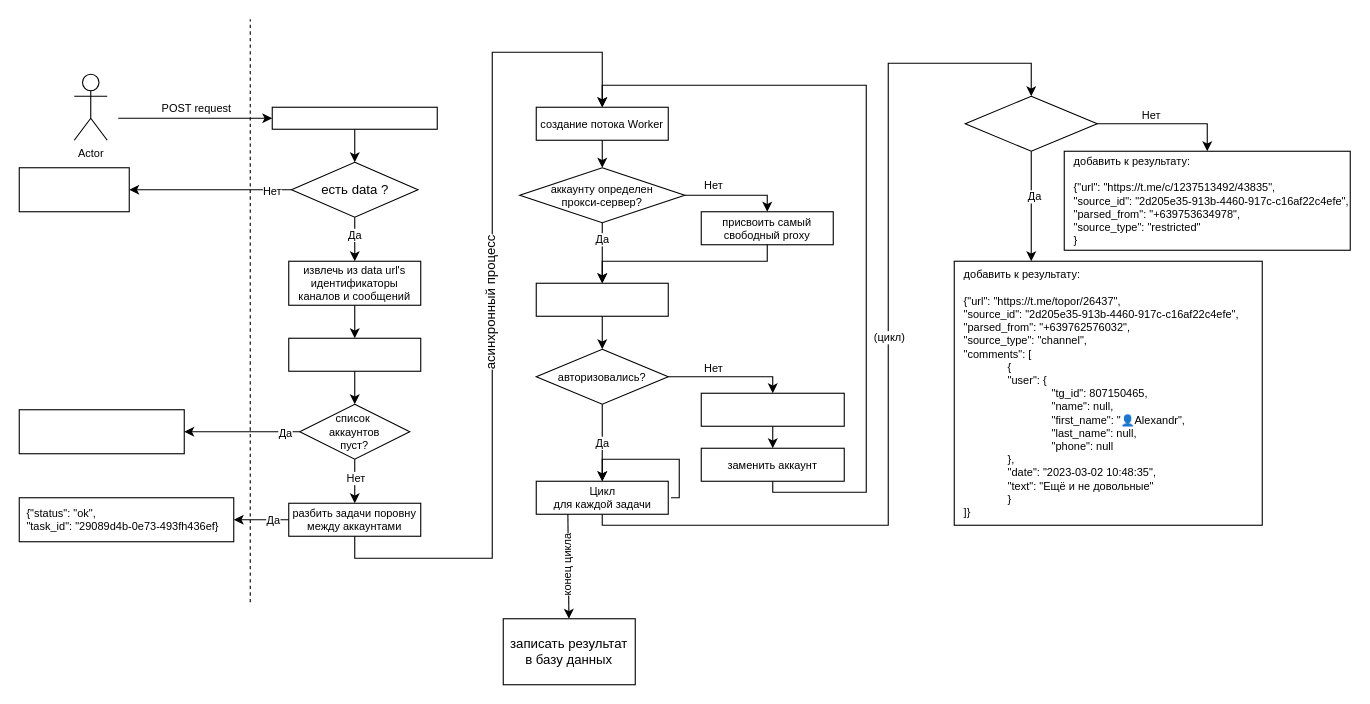
Image size: 1370x704. Some labels were removed from this diagram. The box of each missing label's shape, as (x1, y1, x2, y2) in pixels:
/collect: (271, 106, 437, 129)
{"status": "error", "reason": "no active accounts"}: (18, 409, 184, 454)
{"status": "error", "reason": "no data"}: (18, 167, 129, 212)
авторизация: (535, 282, 668, 316)
изменить статус аккаунта: (700, 392, 844, 426)
открытый канал?: (964, 95, 1097, 151)
получить список активных аккаунтов: (288, 337, 421, 371)
